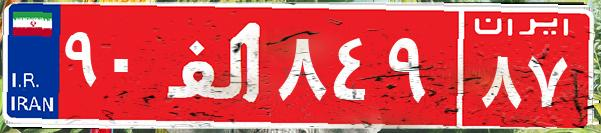0: (110, 28, 158, 105)
4: (330, 28, 385, 110)
7: (525, 38, 570, 115)
8: (273, 28, 330, 110), (475, 38, 525, 113)
9: (385, 28, 445, 110), (57, 26, 110, 107)
الف: (158, 15, 273, 115)
